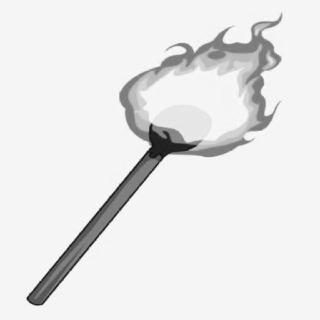Fire: (103, 10, 304, 164)
